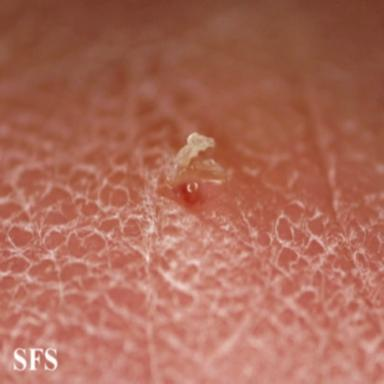Tungiasis: (165, 132, 227, 204)
